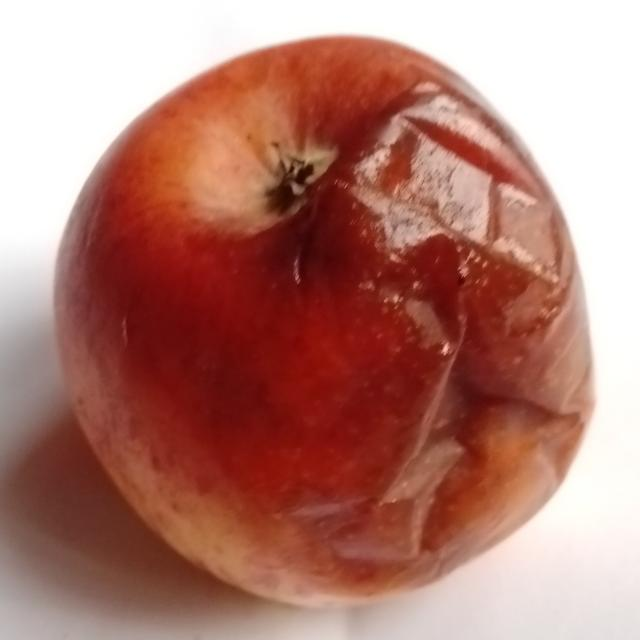apple: (56, 38, 592, 604)
